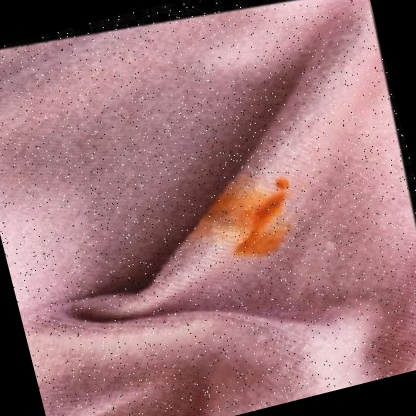kimchi: (201, 174, 313, 266)
